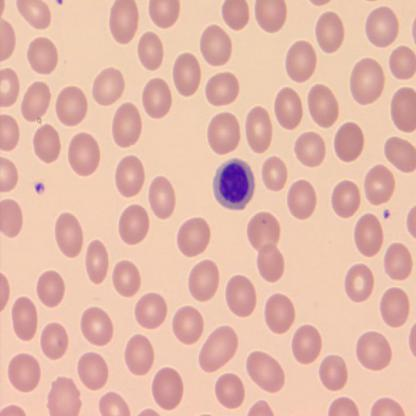NRC: (212, 156, 256, 212)
